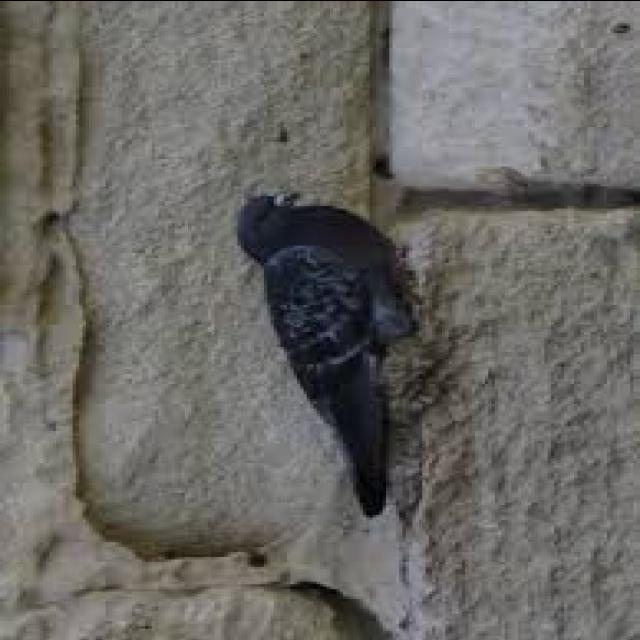pigeon: (218, 181, 432, 511)
